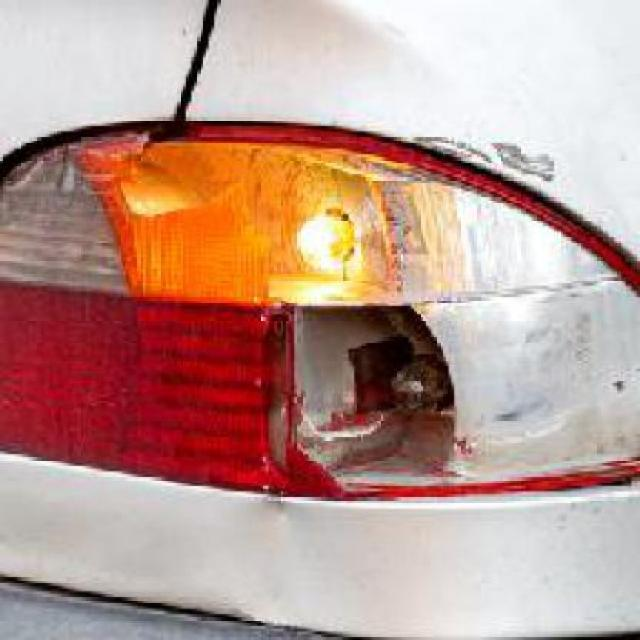damaged-tail-light: (2, 117, 638, 510)
